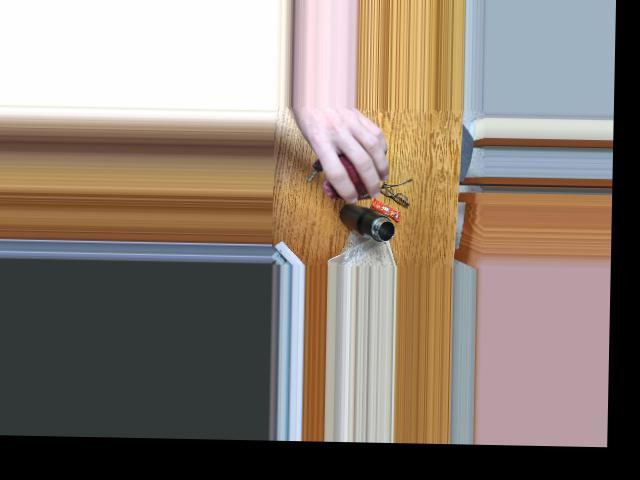onion: (323, 144, 381, 190)
